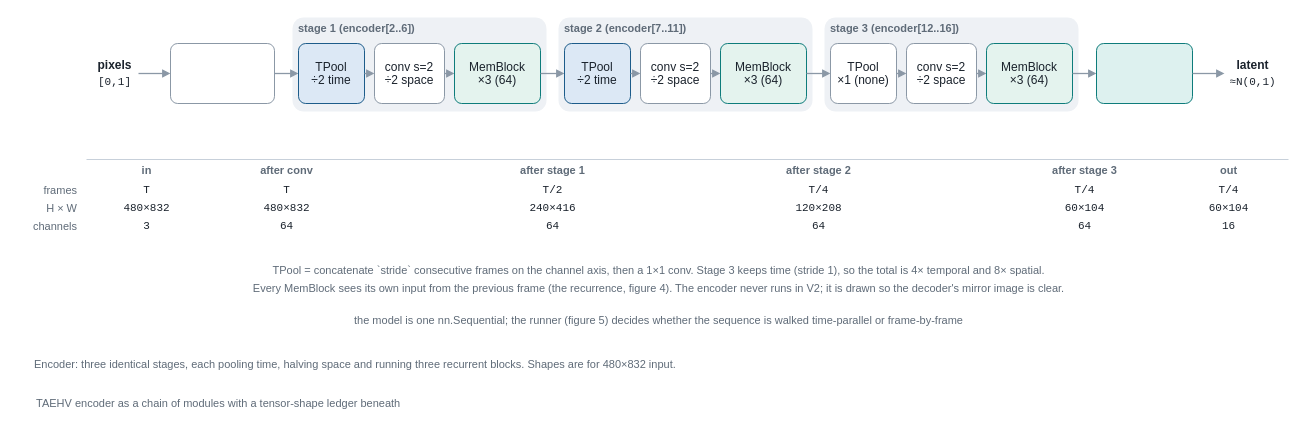
This 1307x440 diagram has some shape labels left out. Each missing label, with the centre of its shape:
conv 3→64 3×3 + ReLU: point (222, 73)
conv 64→16 3×3, no act: point (1144, 73)
